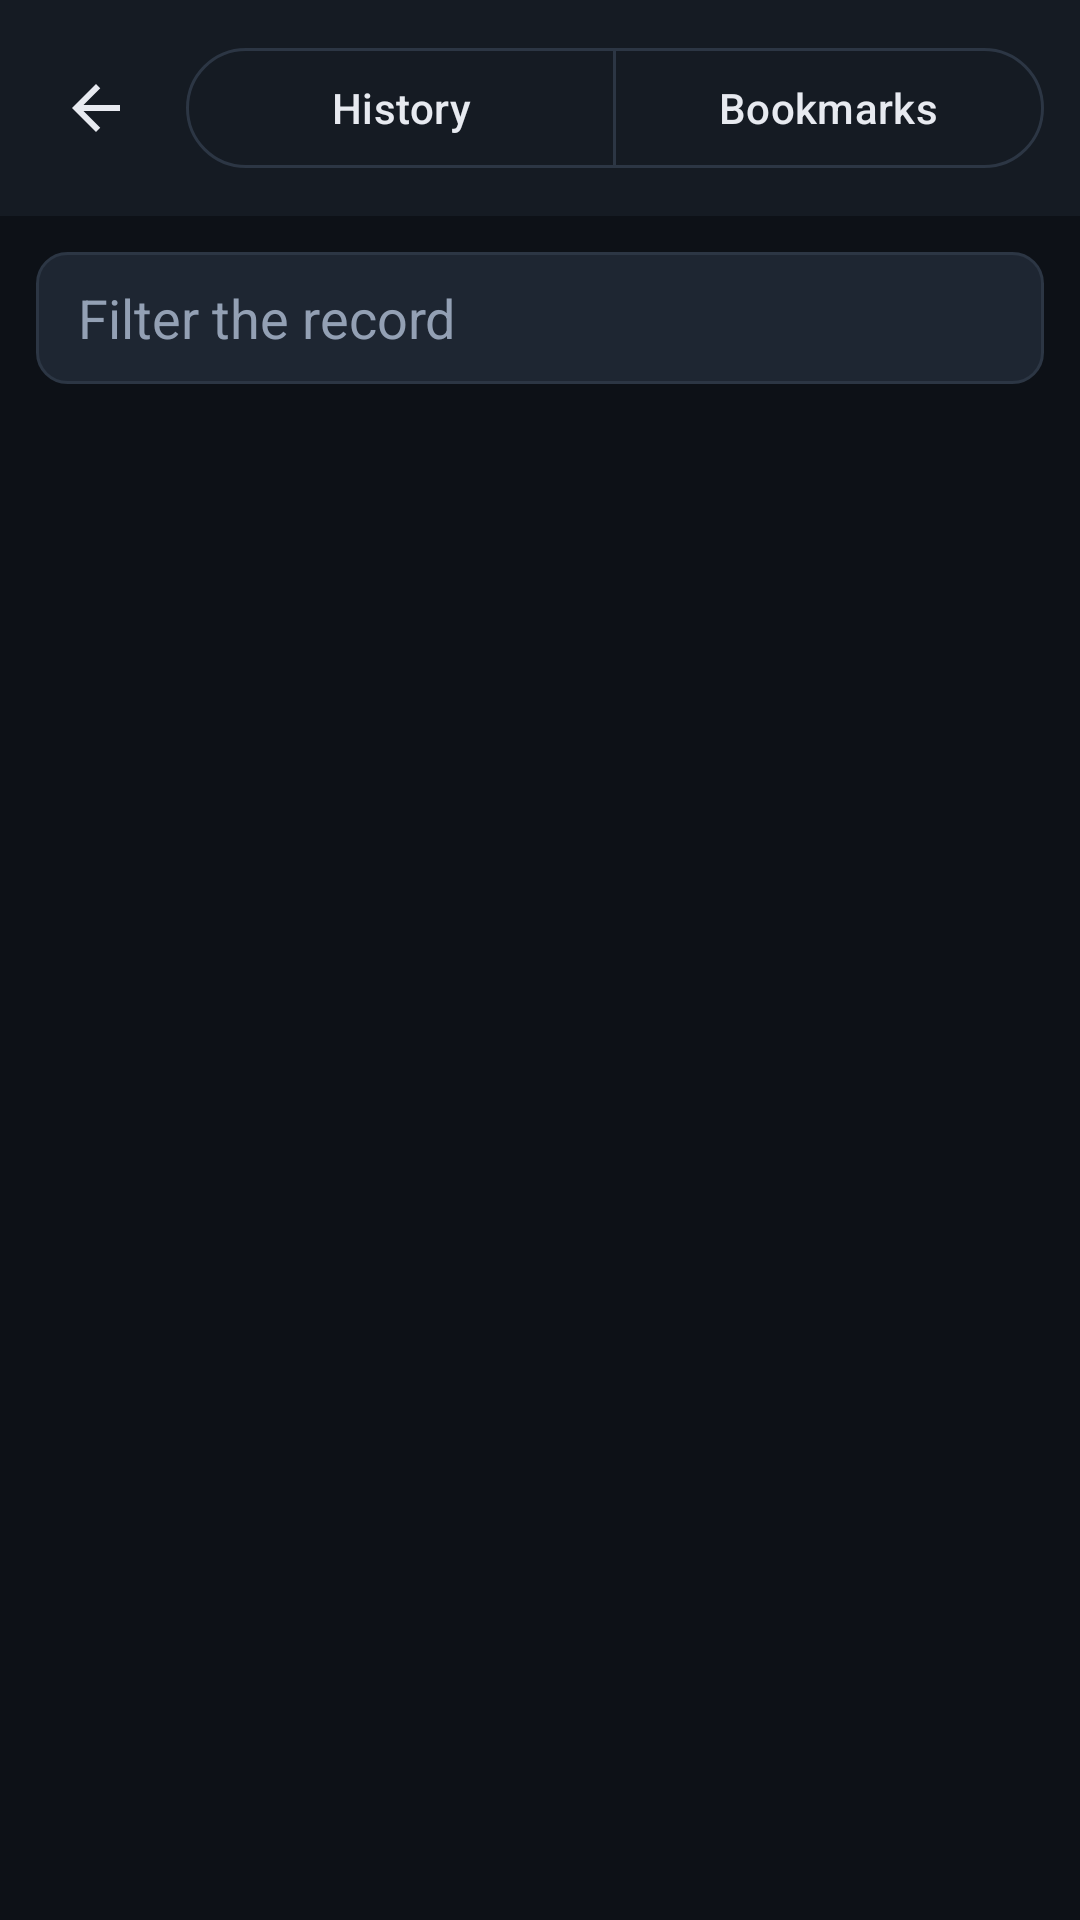

Icon click points for this 1080w x 1920h phone screenshot, format [x,y]:
Back: [96,108]
